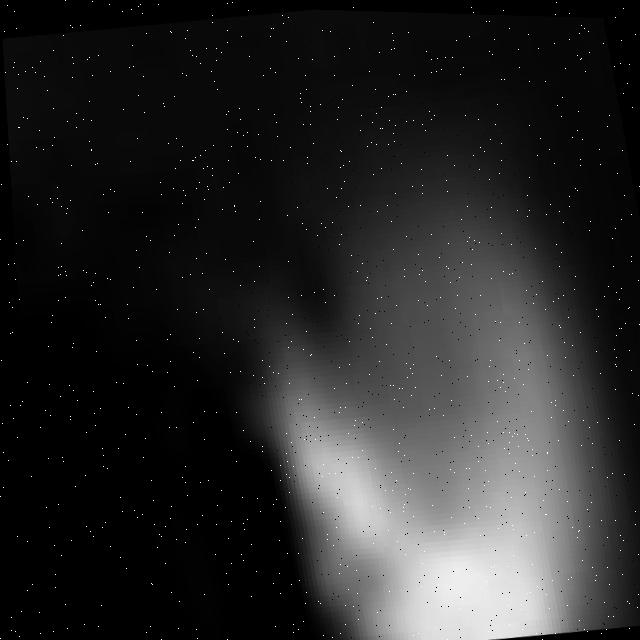person: (204, 167, 635, 640)
